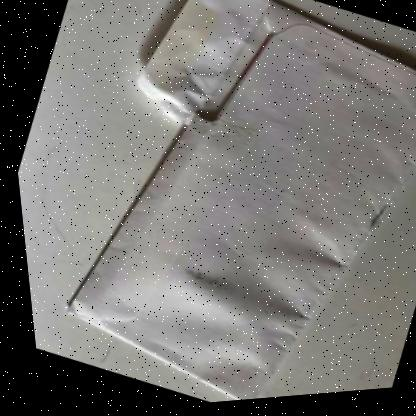Paper: (60, 0, 416, 404)
